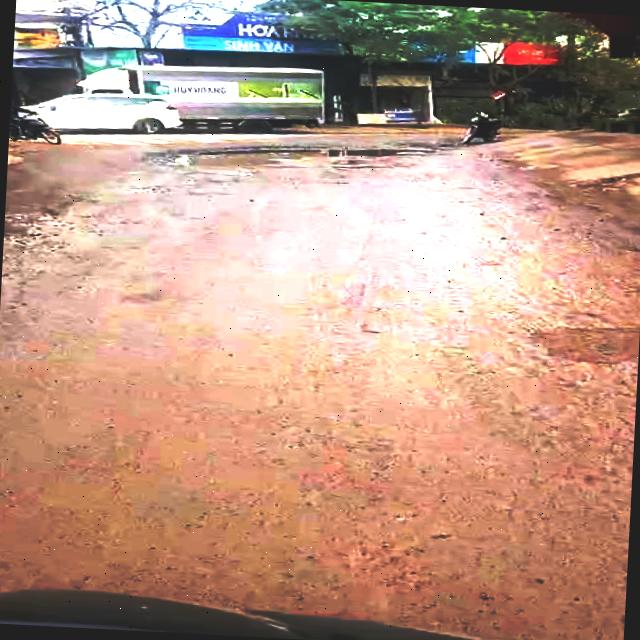pothole: (160, 132, 442, 187)
